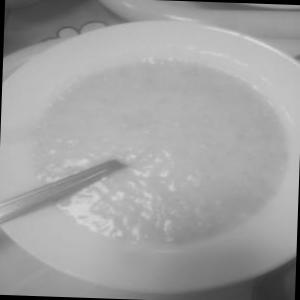porridge: (0, 53, 297, 265)
